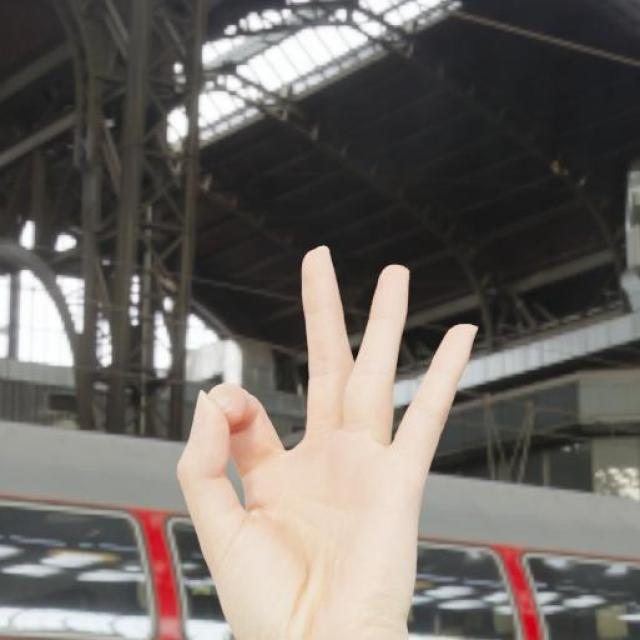F: (173, 242, 482, 640)
